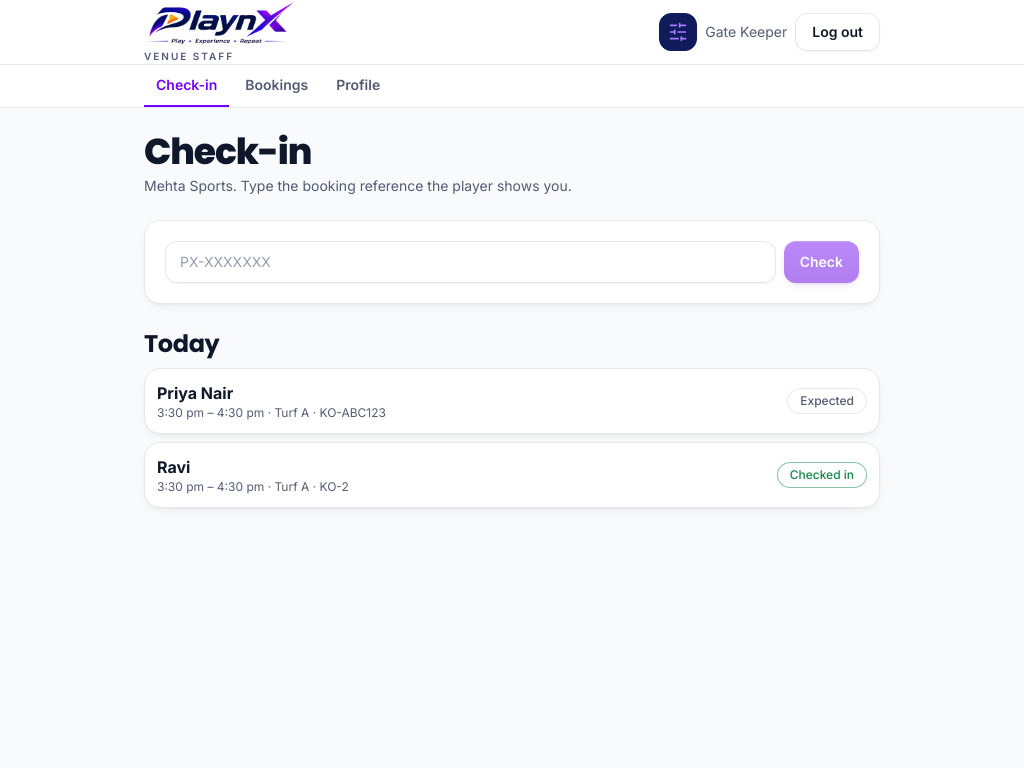
it: staff portal › asks before logging out
Click the button "Log out" at (838, 32), box [795,13,880,51]
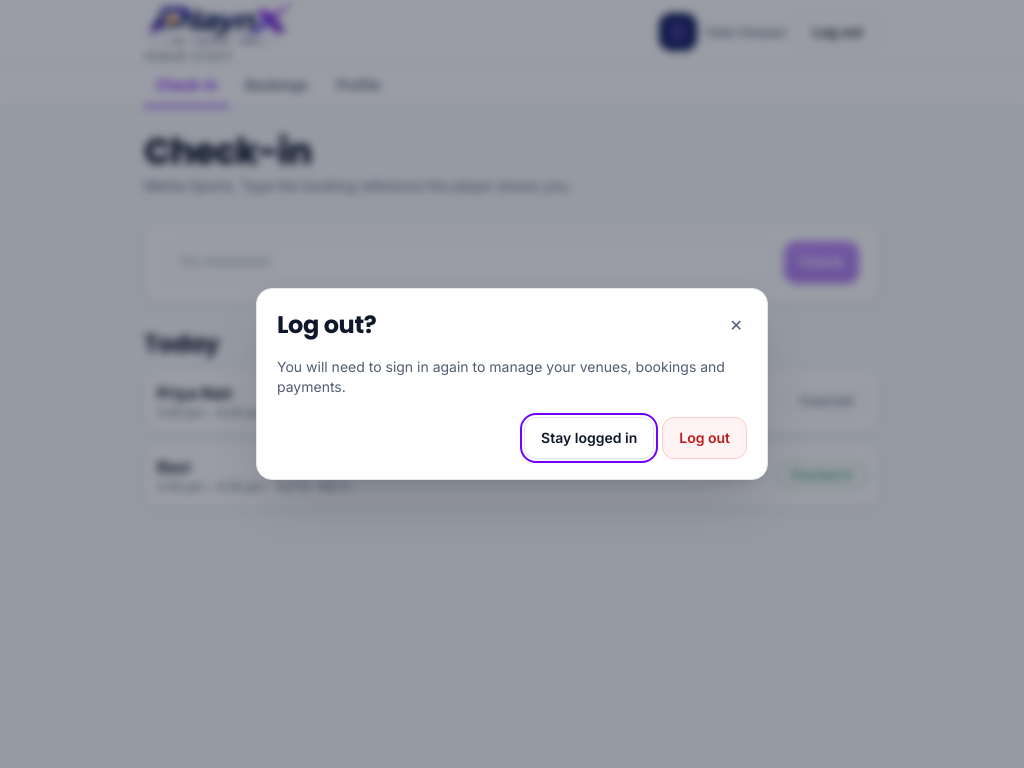
Check: the dialog "Log out?" is shown, box [256,288,768,480]
